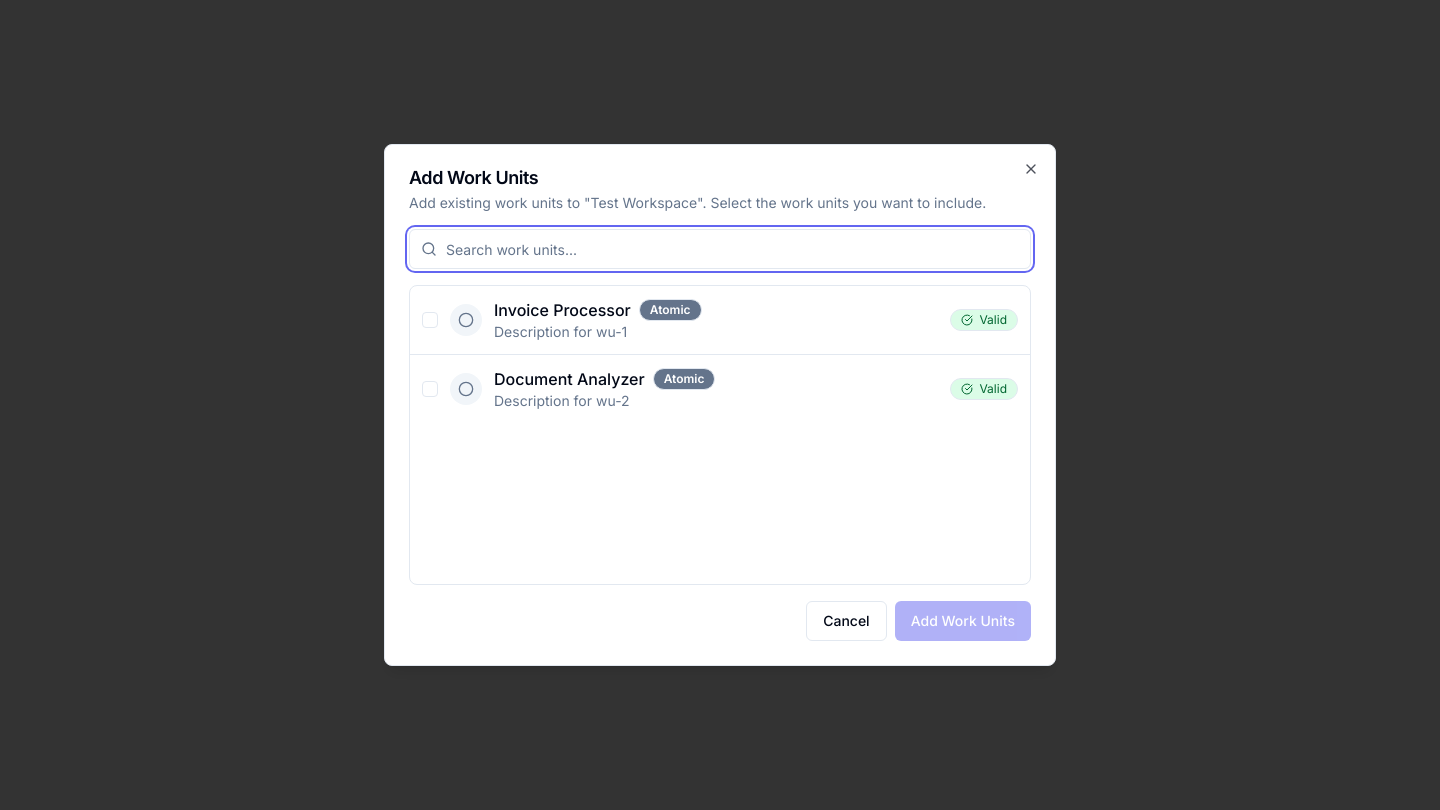
Test: AddWorkUnitDialog › selection › should show selection count when items selected
// Select first item
Step 1. Click the checkbox named "Select Invoice Processor" → coordinates (430, 320), box [422,312,438,328]
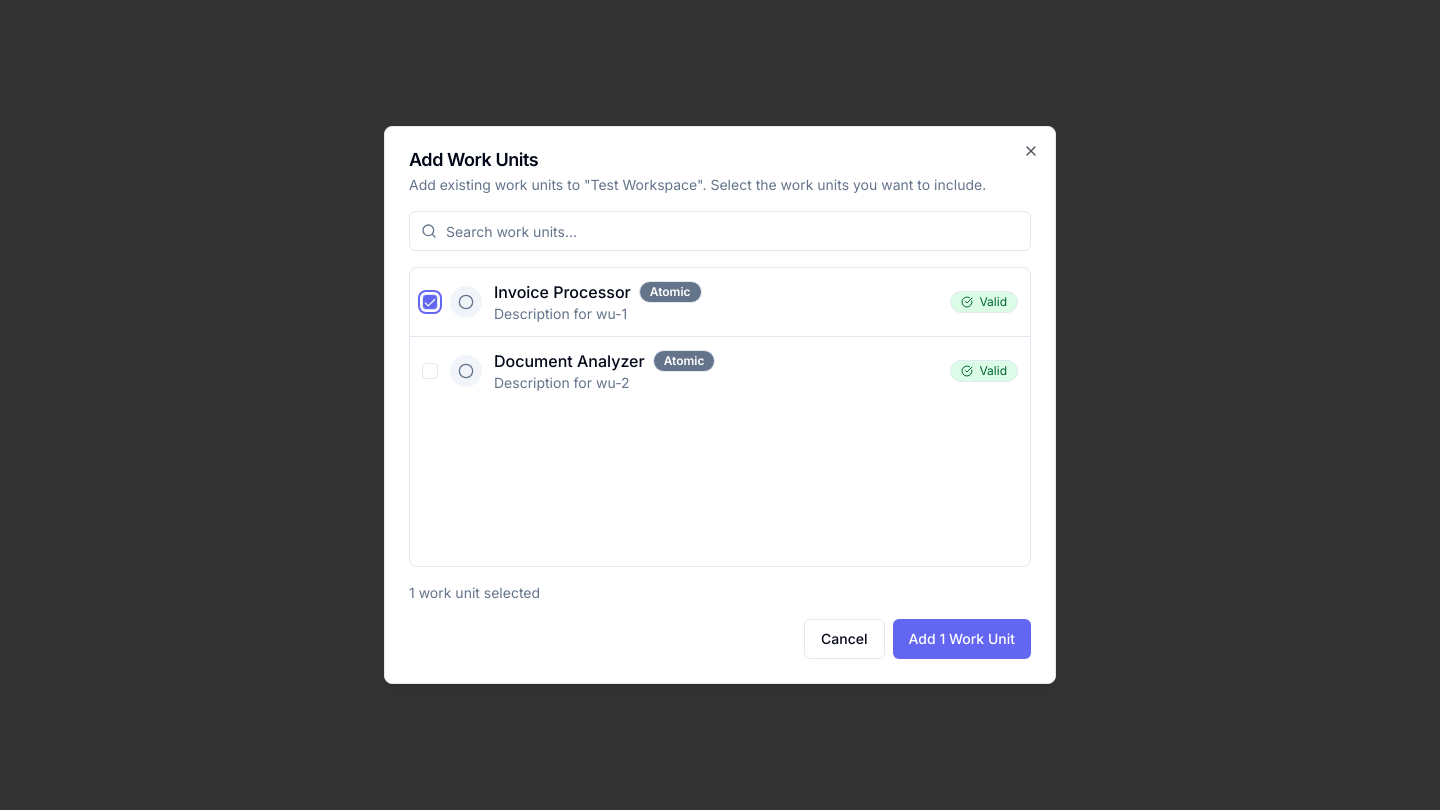
Check: the text "1 work unit selected" is shown, box [409,584,540,601]
// Select second item
Step 2. Click the checkbox named "Select Document Analyzer" → coordinates (430, 371), box [422,363,438,379]
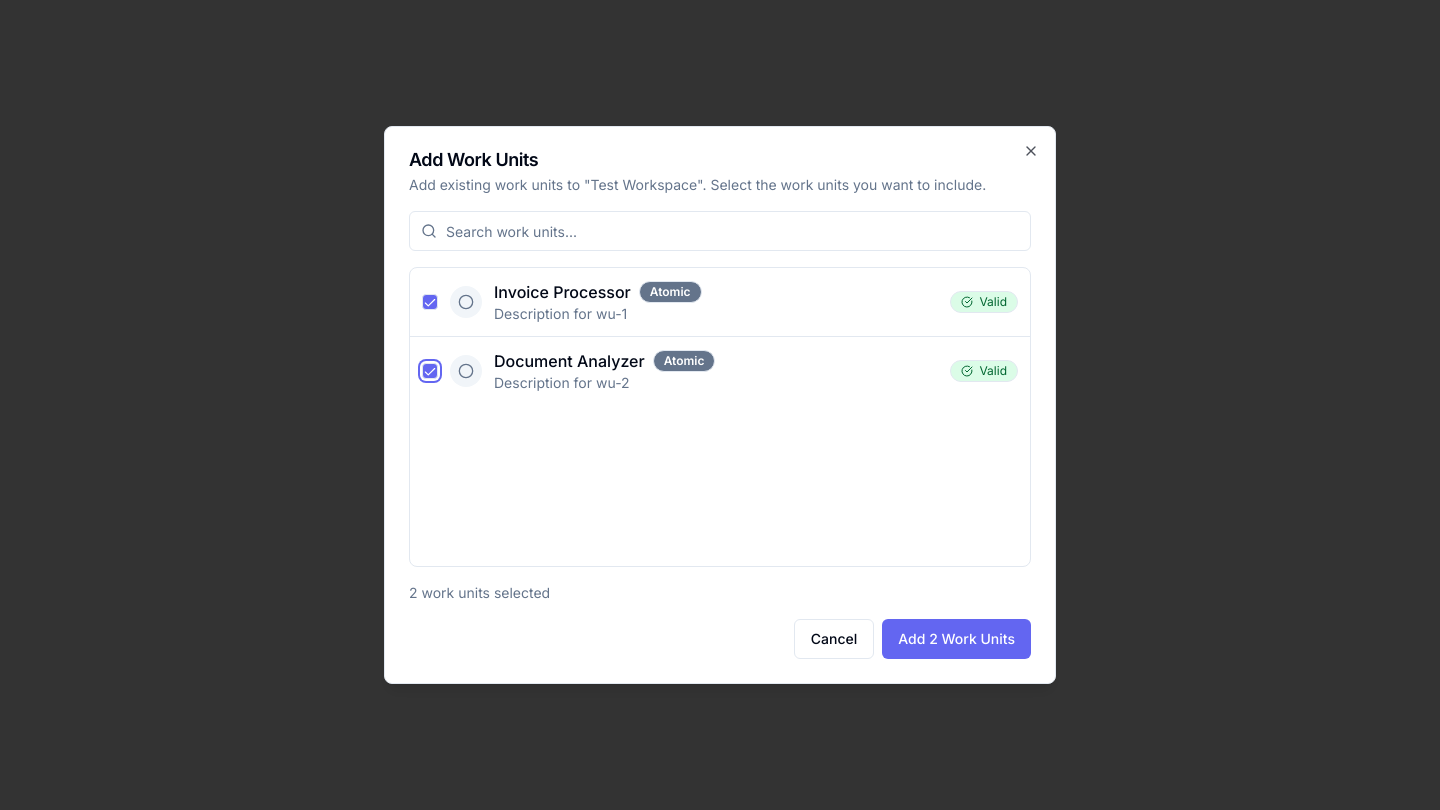
Check: the text "2 work units selected" is shown, box [409,584,550,601]
